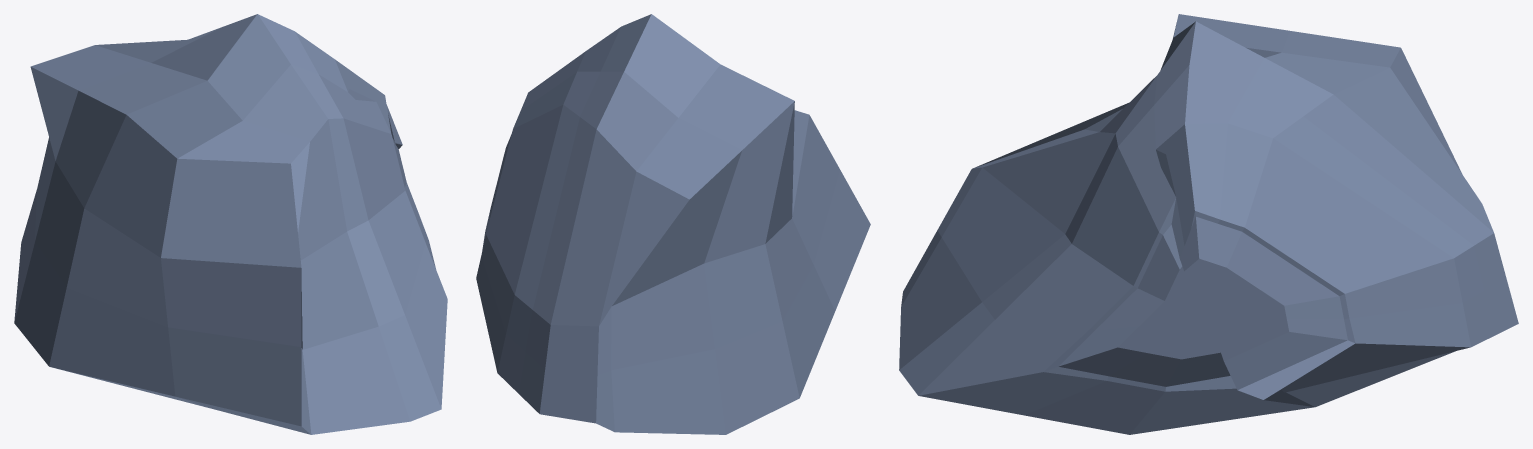
File: stone.fbx
The picture shows the model from 3 angles, left to right: view 1: azimuth 30°, elevation 25°; view 2: azimuth 150°, elevation 25°; view 3: azimuth 270°, elevation 25°; orthographic projection. The views are drawn at different scales.
Parts seen in each view (by area): view 1: Cube.002; view 2: Cube.002; view 3: Cube.002.
Part boxes in pixels (bbox=[...]): Cube.002: bbox=[14, 14, 447, 434]; Cube.002: bbox=[476, 14, 870, 434]; Cube.002: bbox=[899, 14, 1518, 434].
Size of the model in its own units: 230 by 234 by 343.
